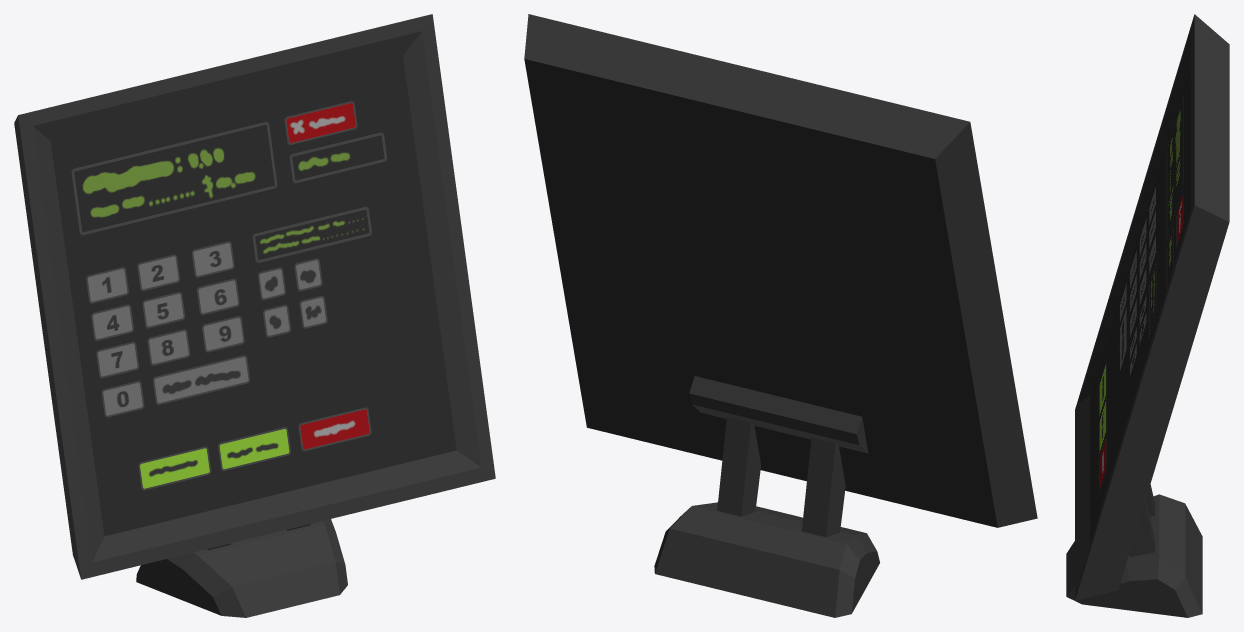
The model's file is cash_register_screen.obj.
The picture shows the model from 3 angles, left to right: view 1: azimuth 30°, elevation 25°; view 2: azimuth 150°, elevation 25°; view 3: azimuth 270°, elevation 25°; orthographic projection. The views are drawn at different scales.
Parts seen in each view (by area): view 1: cash_register_screen; view 2: cash_register_screen; view 3: cash_register_screen.
Boxes of the visible parts, x1=… form: cash_register_screen: x1=14, y1=14, x2=495, y2=617; cash_register_screen: x1=524, y1=14, x2=1037, y2=617; cash_register_screen: x1=1066, y1=14, x2=1229, y2=617.
Bounding box in the file's own units: 0.3411 × 0.3871 × 0.1229.
